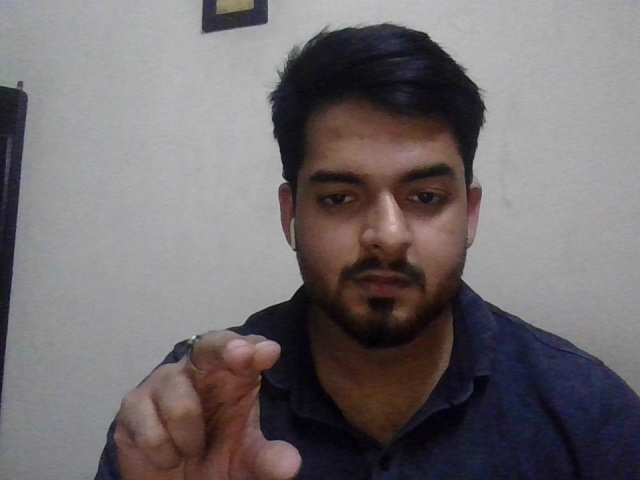no: (112, 324, 312, 480)
